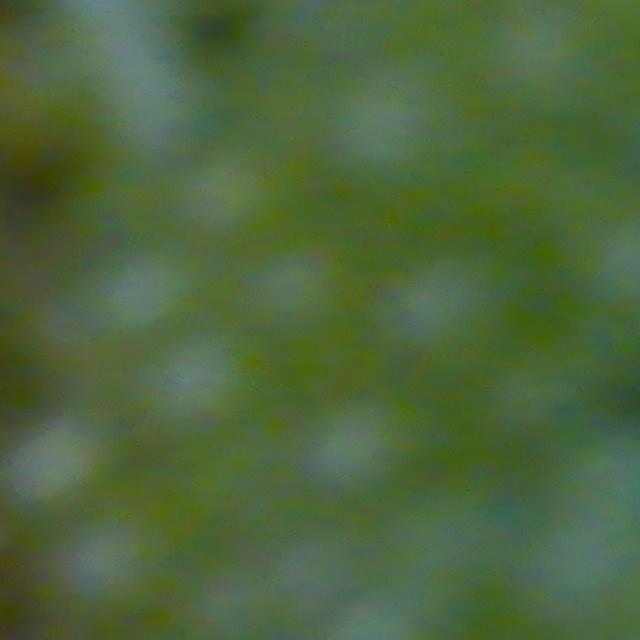SeaGrape: (119, 321, 262, 477), (464, 0, 605, 149), (379, 234, 511, 376), (48, 500, 176, 625), (234, 219, 358, 341), (285, 377, 422, 482), (164, 134, 301, 235), (332, 82, 458, 177), (107, 239, 191, 351), (0, 430, 109, 514)
